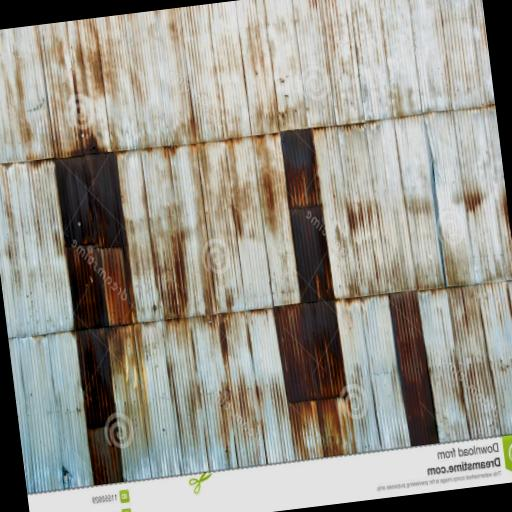corrosion: (54, 151, 137, 330), (141, 144, 216, 319), (387, 290, 439, 446), (99, 326, 150, 481), (274, 299, 348, 403), (76, 325, 130, 427), (290, 204, 334, 302), (280, 128, 322, 209), (88, 425, 123, 484), (217, 386, 236, 421)
